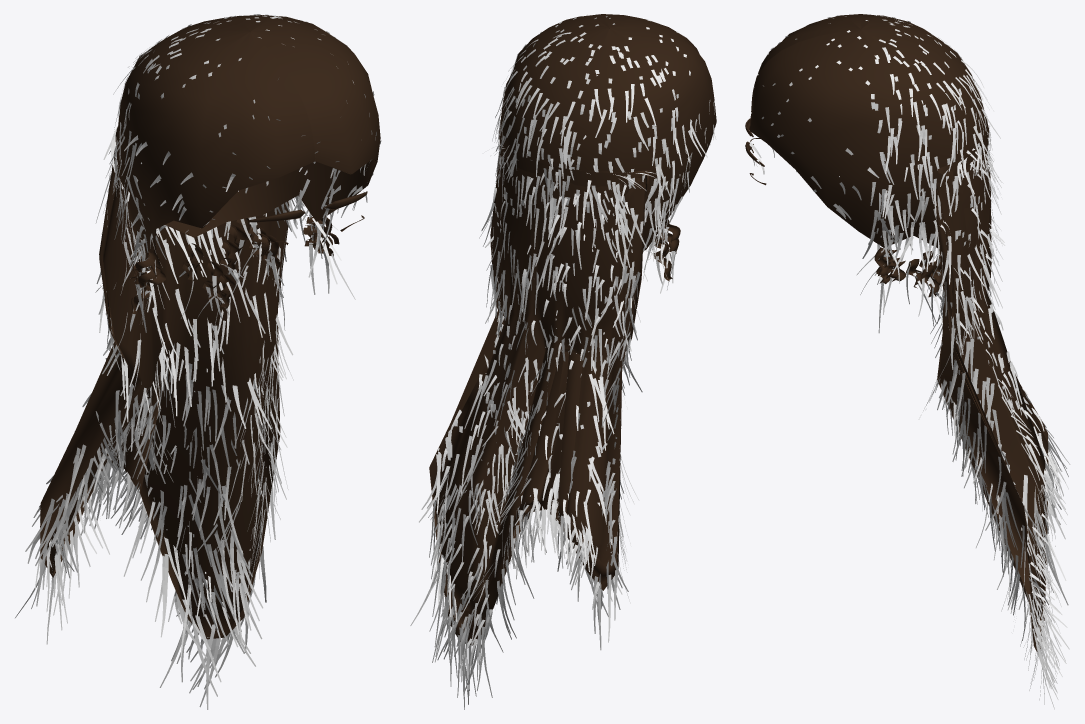
Rendered from hair-huscarl-long.glb.
The picture shows the model from 3 angles, left to right: view 1: azimuth 30°, elevation 25°; view 2: azimuth 150°, elevation 25°; view 3: azimuth 270°, elevation 25°; orthographic projection. The views are drawn at different scales.
Visible parts, largest first — view 1: hair-huscarl-long_1, hair__strands; view 2: hair-huscarl-long_1, hair__strands; view 3: hair-huscarl-long_1, hair__strands.
Boxes of the visible parts, x1,y1,x2,y2 form: hair-huscarl-long_1: (40,15,380,639); hair__strands: (15,14,381,709); hair-huscarl-long_1: (429,14,716,645); hair__strands: (410,15,716,709); hair-huscarl-long_1: (745,14,1048,651); hair__strands: (749,15,1070,709).
Size of the model in its own units: 0.2409 by 0.7021 by 0.3169.
